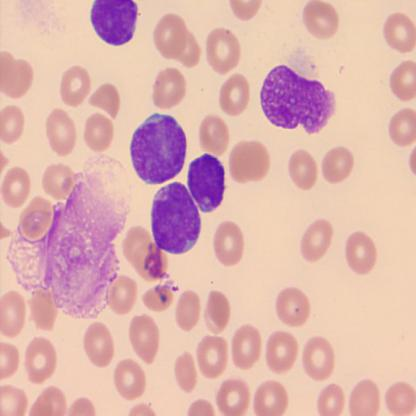Blast: (129, 109, 188, 187), (147, 179, 203, 256), (186, 150, 228, 217)
